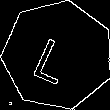L_NE: (33, 26, 82, 85)
